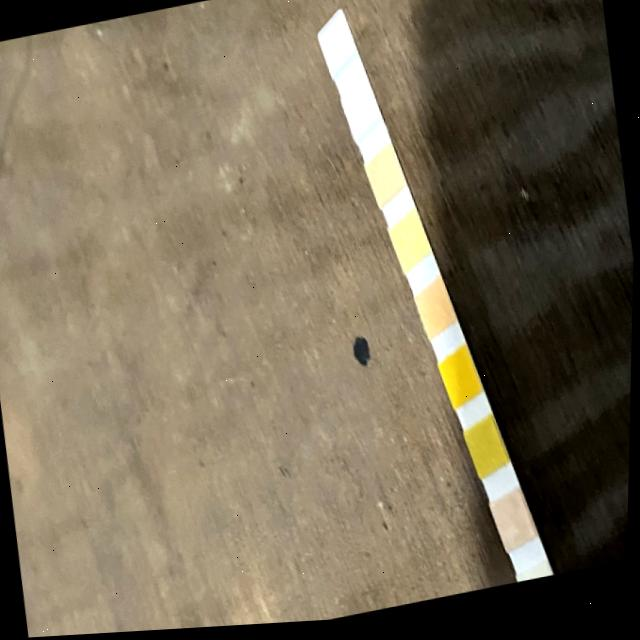Bilirubin: (529, 576, 554, 587)
Blood: (450, 363, 474, 404)
Ketone: (502, 503, 527, 552)
Leukocytes: (328, 31, 346, 67)
Nitrite: (352, 96, 374, 134)
Protein: (400, 225, 423, 270)
SpGravity: (475, 429, 500, 478)
Urobilinogen: (374, 160, 395, 201)
pH: (426, 294, 448, 336)
